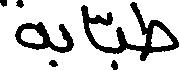X: (0, 0, 49, 69), (132, 0, 178, 65), (82, 0, 97, 53), (113, 22, 124, 69), (61, 19, 73, 57)
